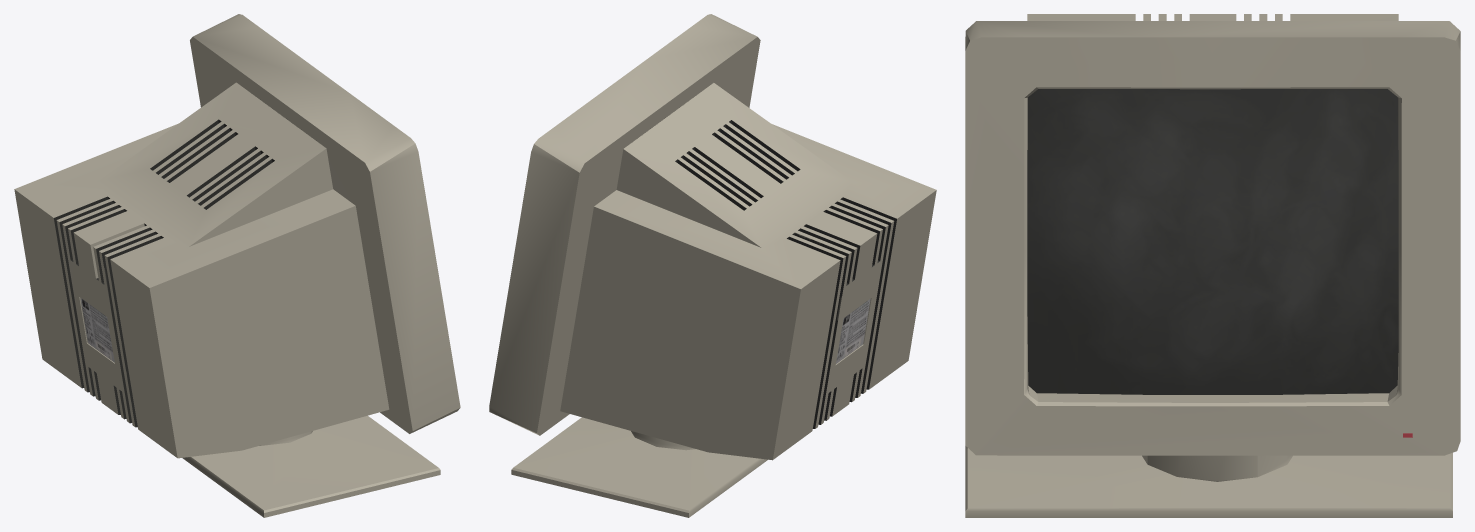
Rendered from Monitor.fbx.
3 renders of one model, left to right at view 1: azimuth 30°, elevation 25°; view 2: azimuth 150°, elevation 25°; view 3: azimuth 270°, elevation 25°, orthographic. The views are drawn at different scales.
Parts seen in each view (by area): view 1: Monitor; view 2: Monitor; view 3: Monitor.
Part boxes in pixels (box(x1,y1,x2,y2)): Monitor: box(14, 14, 460, 517); Monitor: box(489, 14, 936, 517); Monitor: box(965, 14, 1460, 517).
Size of the model in its own units: 37.09 by 41.4 by 40.
